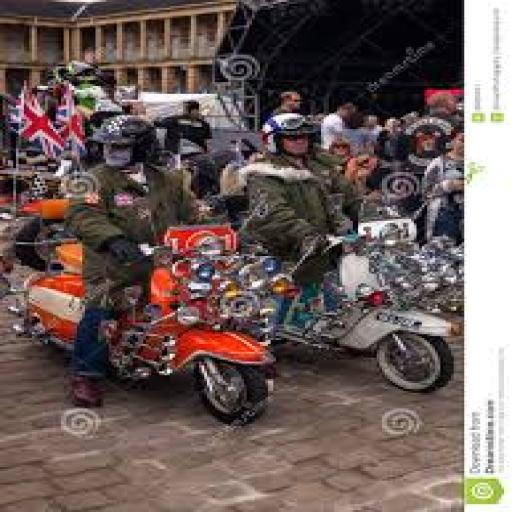overloading: (5, 90, 462, 424), (0, 209, 284, 426)
